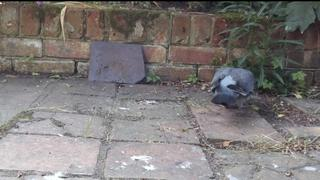wood pigeon: (210, 67, 255, 110)
